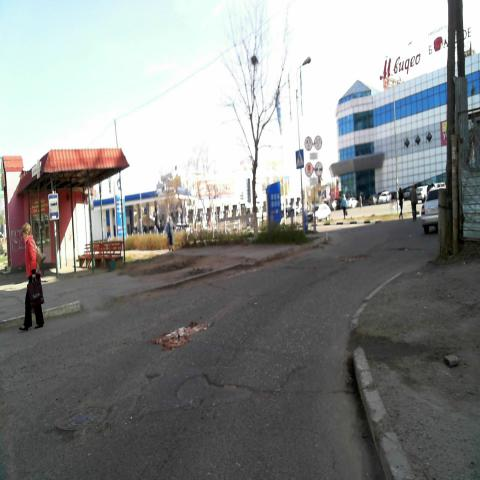3_14: (314, 136, 322, 150)
3_16: (314, 162, 322, 178)
3_32: (305, 162, 313, 178)
